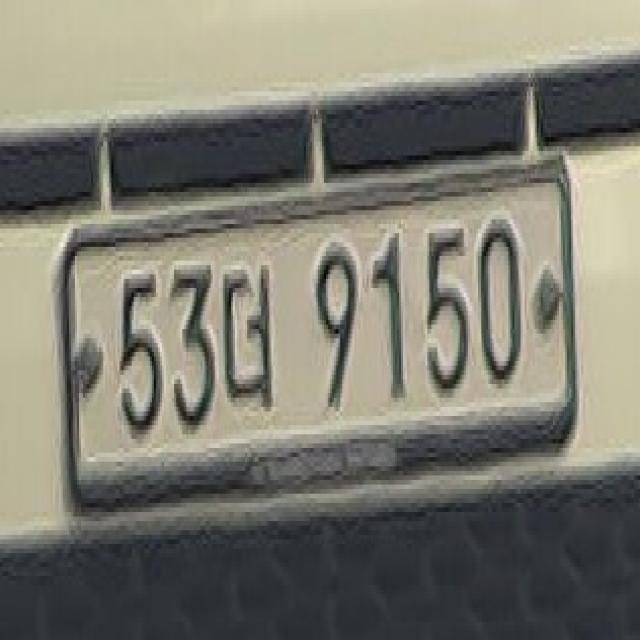0: (480, 192, 539, 393)
1: (365, 210, 423, 407)
3: (162, 238, 217, 439)
5: (116, 261, 172, 448), (423, 224, 472, 407)
9: (304, 224, 360, 416)
deo: (224, 256, 290, 411)
license_plate: (59, 142, 583, 516)
